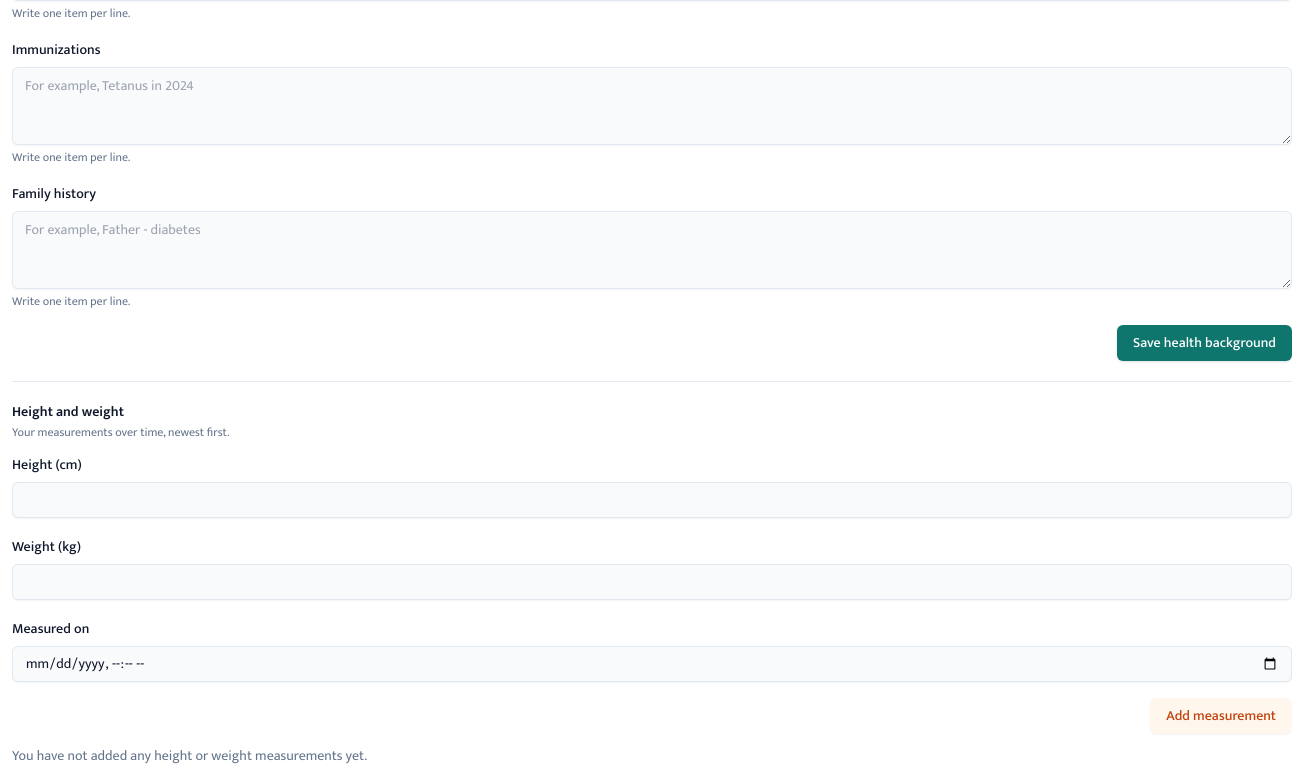
it: Health background zone surface (#549) › asks for the measurement date when it is missing, rather than saying it is unreadable
This screenshot has width=1304, height=777.
(page scrolled)
Type "170" into the field with test id "ps-hb-metric-height" at (652, 500), box x1=12 y1=482 x2=1292 y2=518
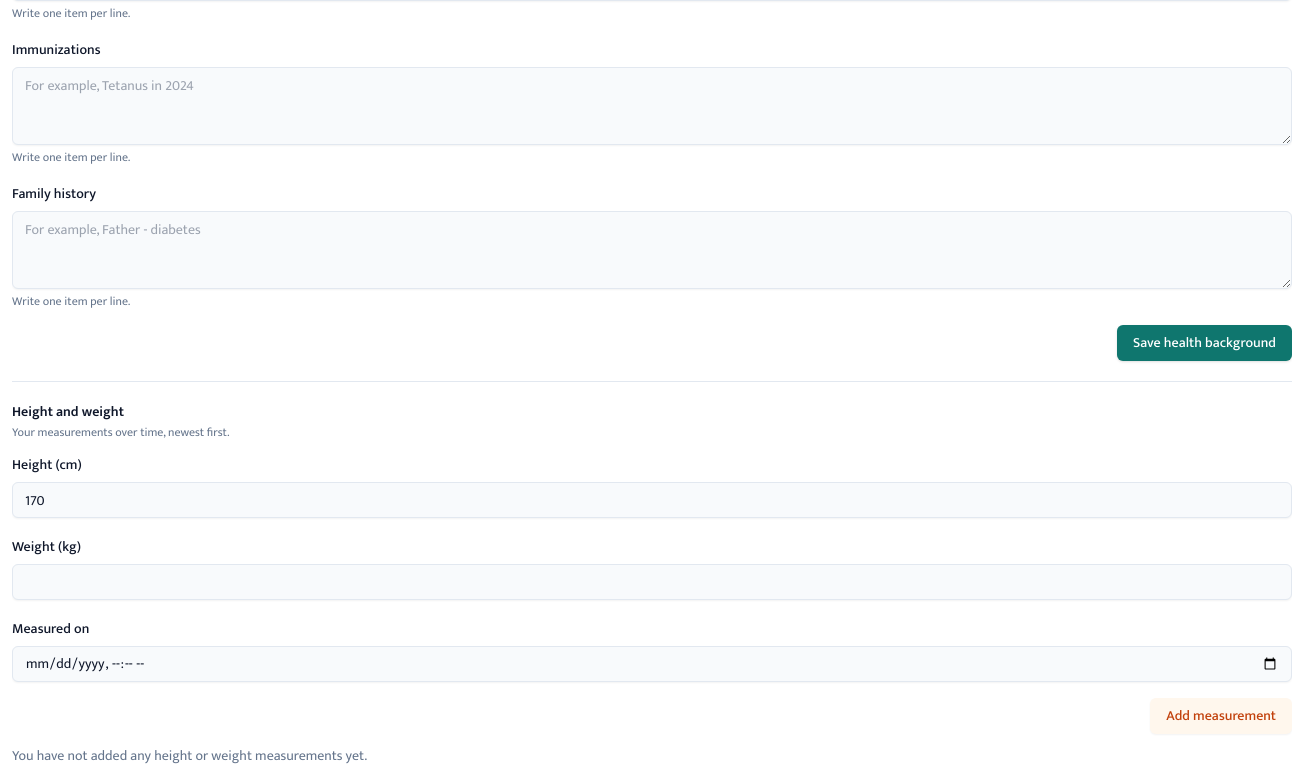
Click the button with test id "ps-hb-metric-add" at (1221, 716), box x1=1150 y1=698 x2=1292 y2=734
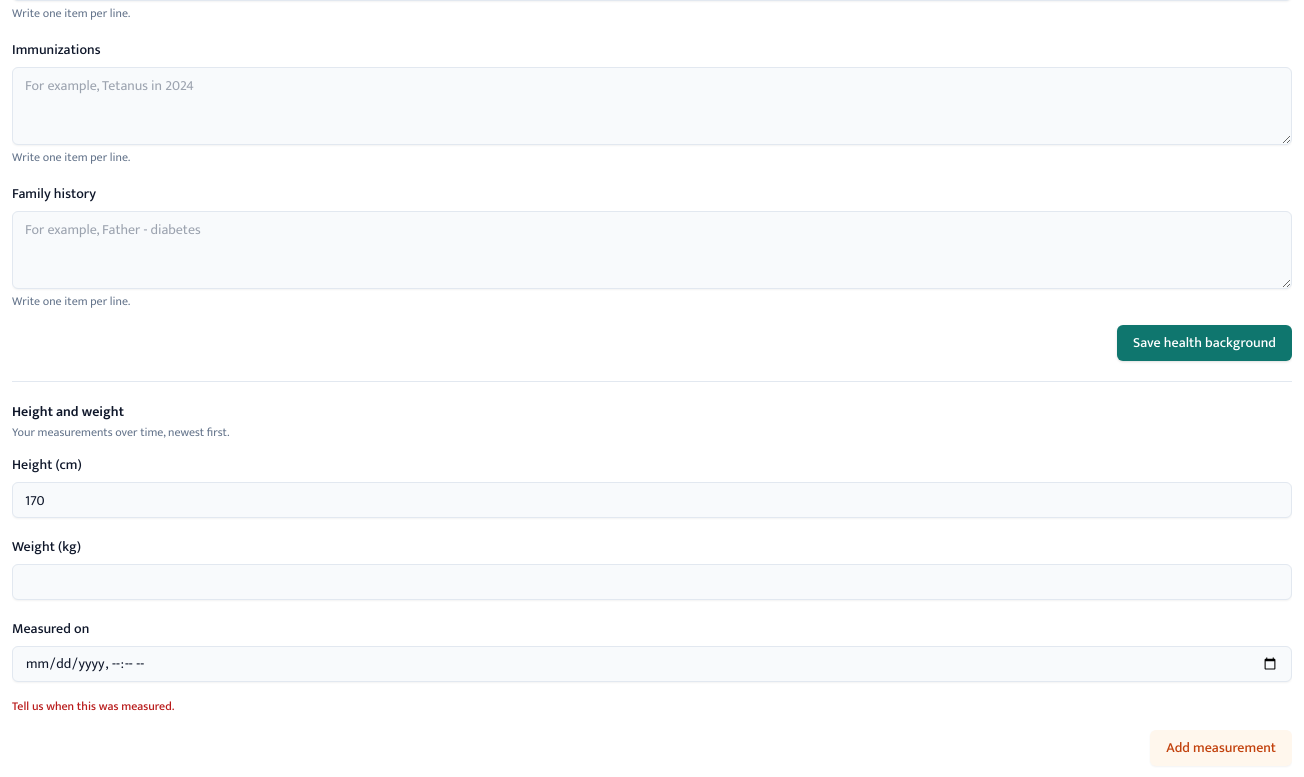
Check: the message with test id "ps-hb-metric-error-recordedAt" does not show "That date could not be read. Pick it again.", box x1=12 y1=696 x2=174 y2=716
Check: the message with test id "ps-hb-metric-error-recordedAt" reads "Tell us when this was measured.", box x1=12 y1=696 x2=174 y2=716
